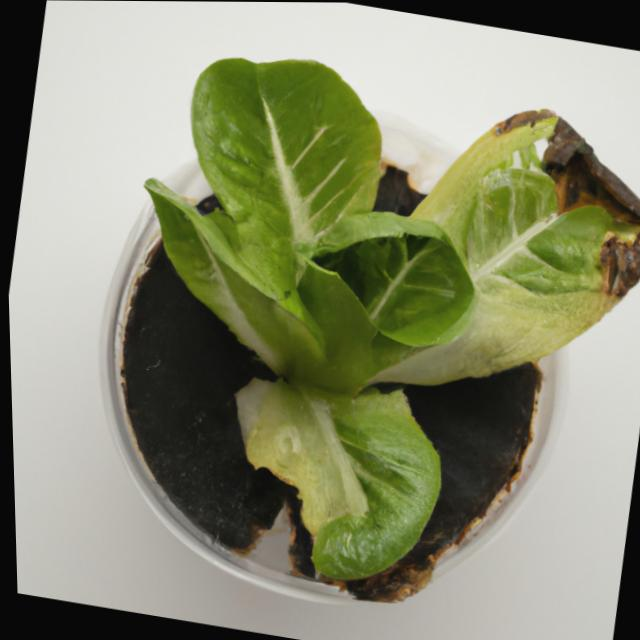-K: (68, 16, 640, 640)
